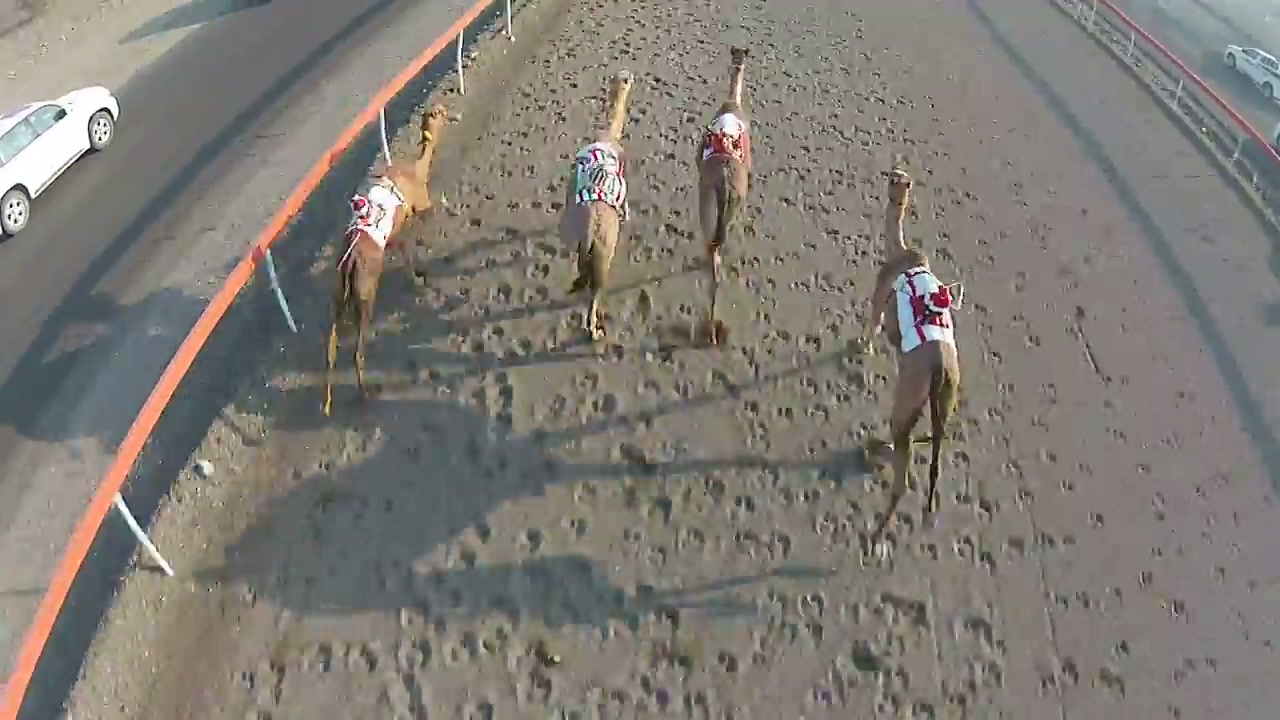animal_foot_print: (298, 38, 1264, 711)
